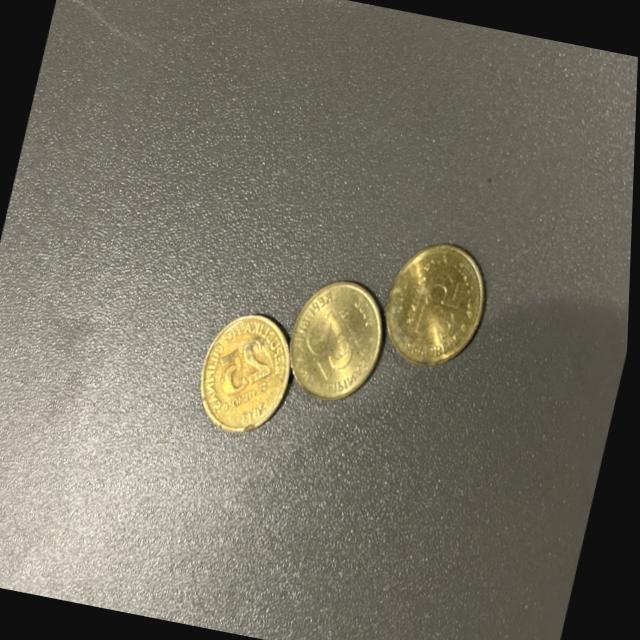25Cent_Old_Front: (192, 304, 306, 438)
